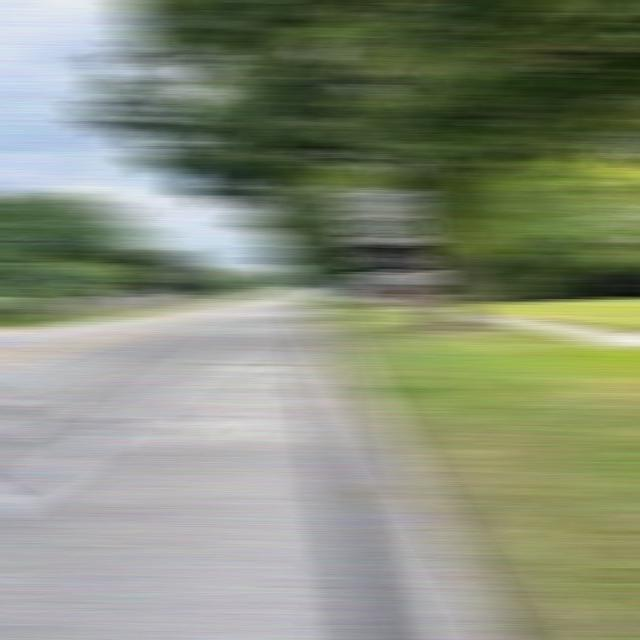speedLimit30: (342, 184, 427, 246)
